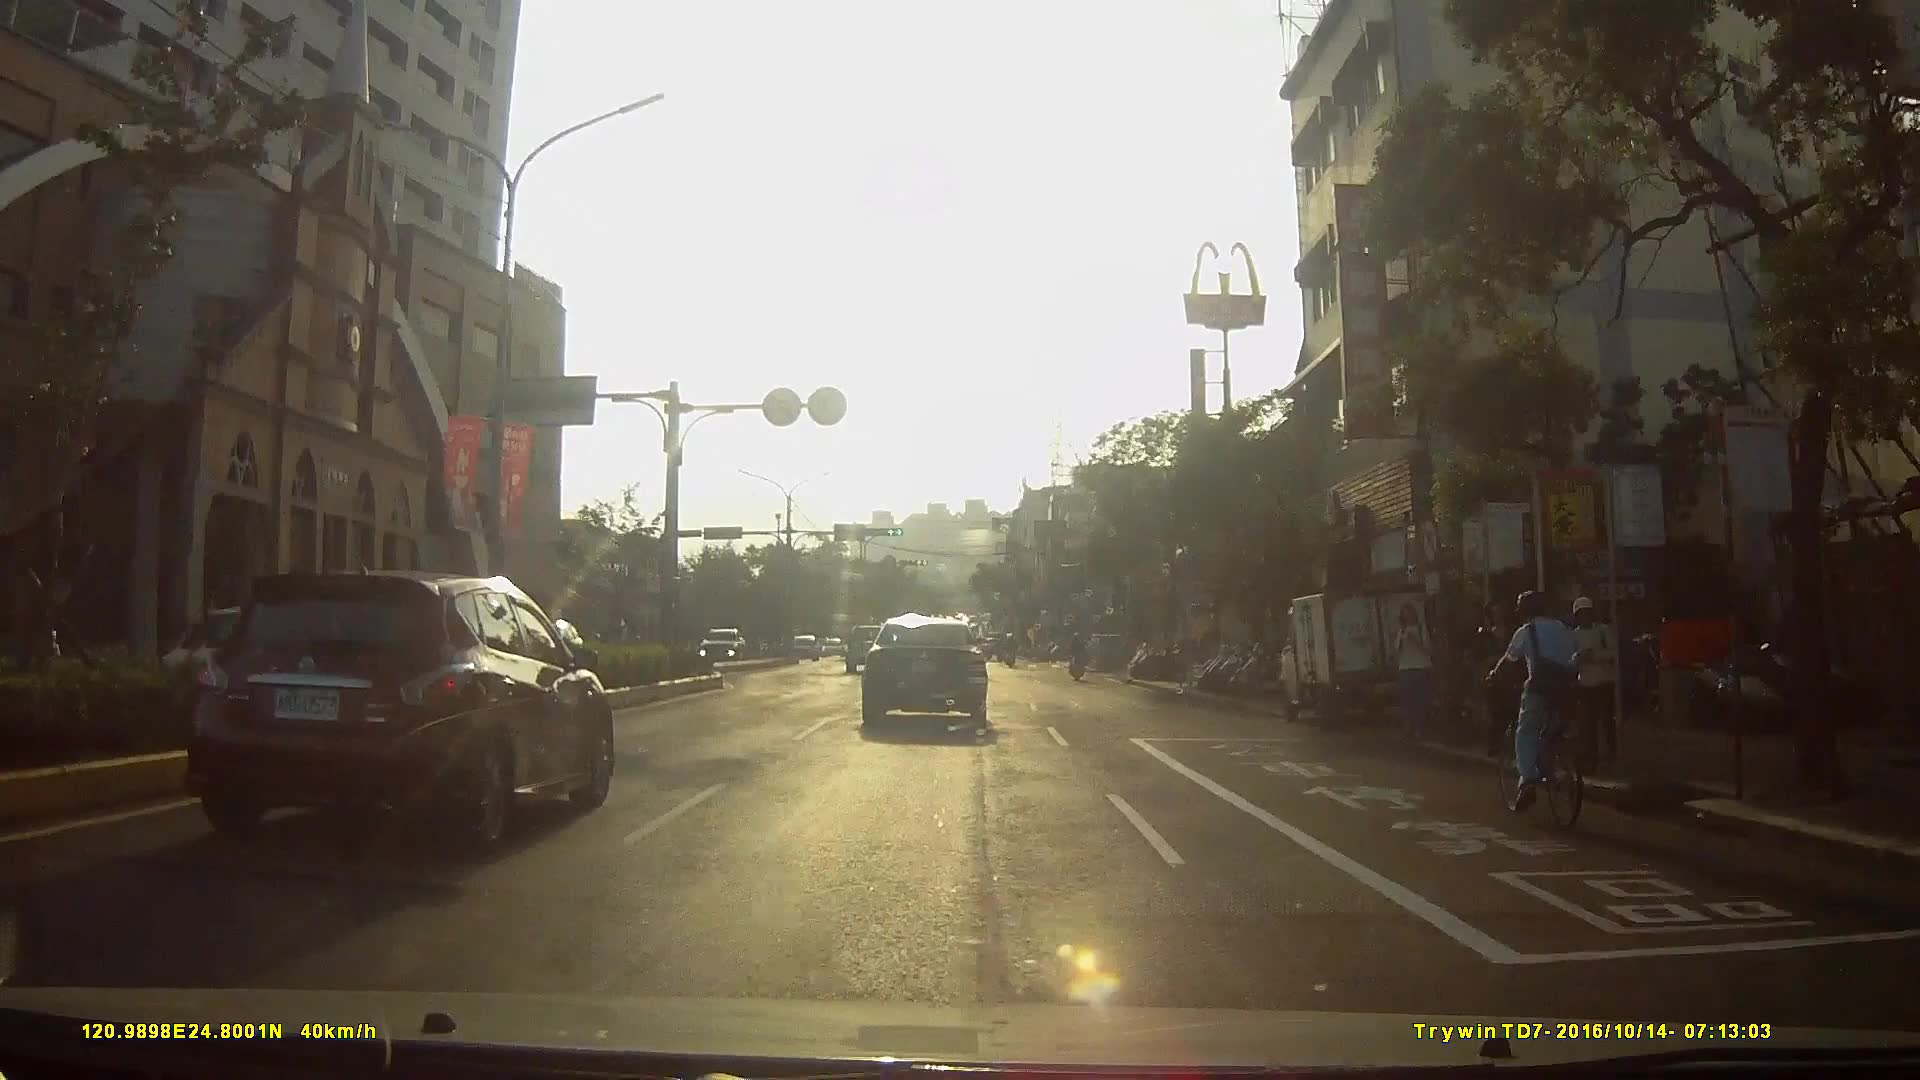pedestrian: (1559, 594, 1623, 773), (1471, 592, 1530, 768), (1390, 598, 1440, 745)
rider: (1475, 582, 1592, 832), (1067, 626, 1093, 685)
vehicle: (167, 562, 629, 852), (1268, 577, 1455, 740), (861, 610, 1005, 736), (840, 618, 899, 673), (692, 623, 750, 669), (778, 630, 813, 663)
